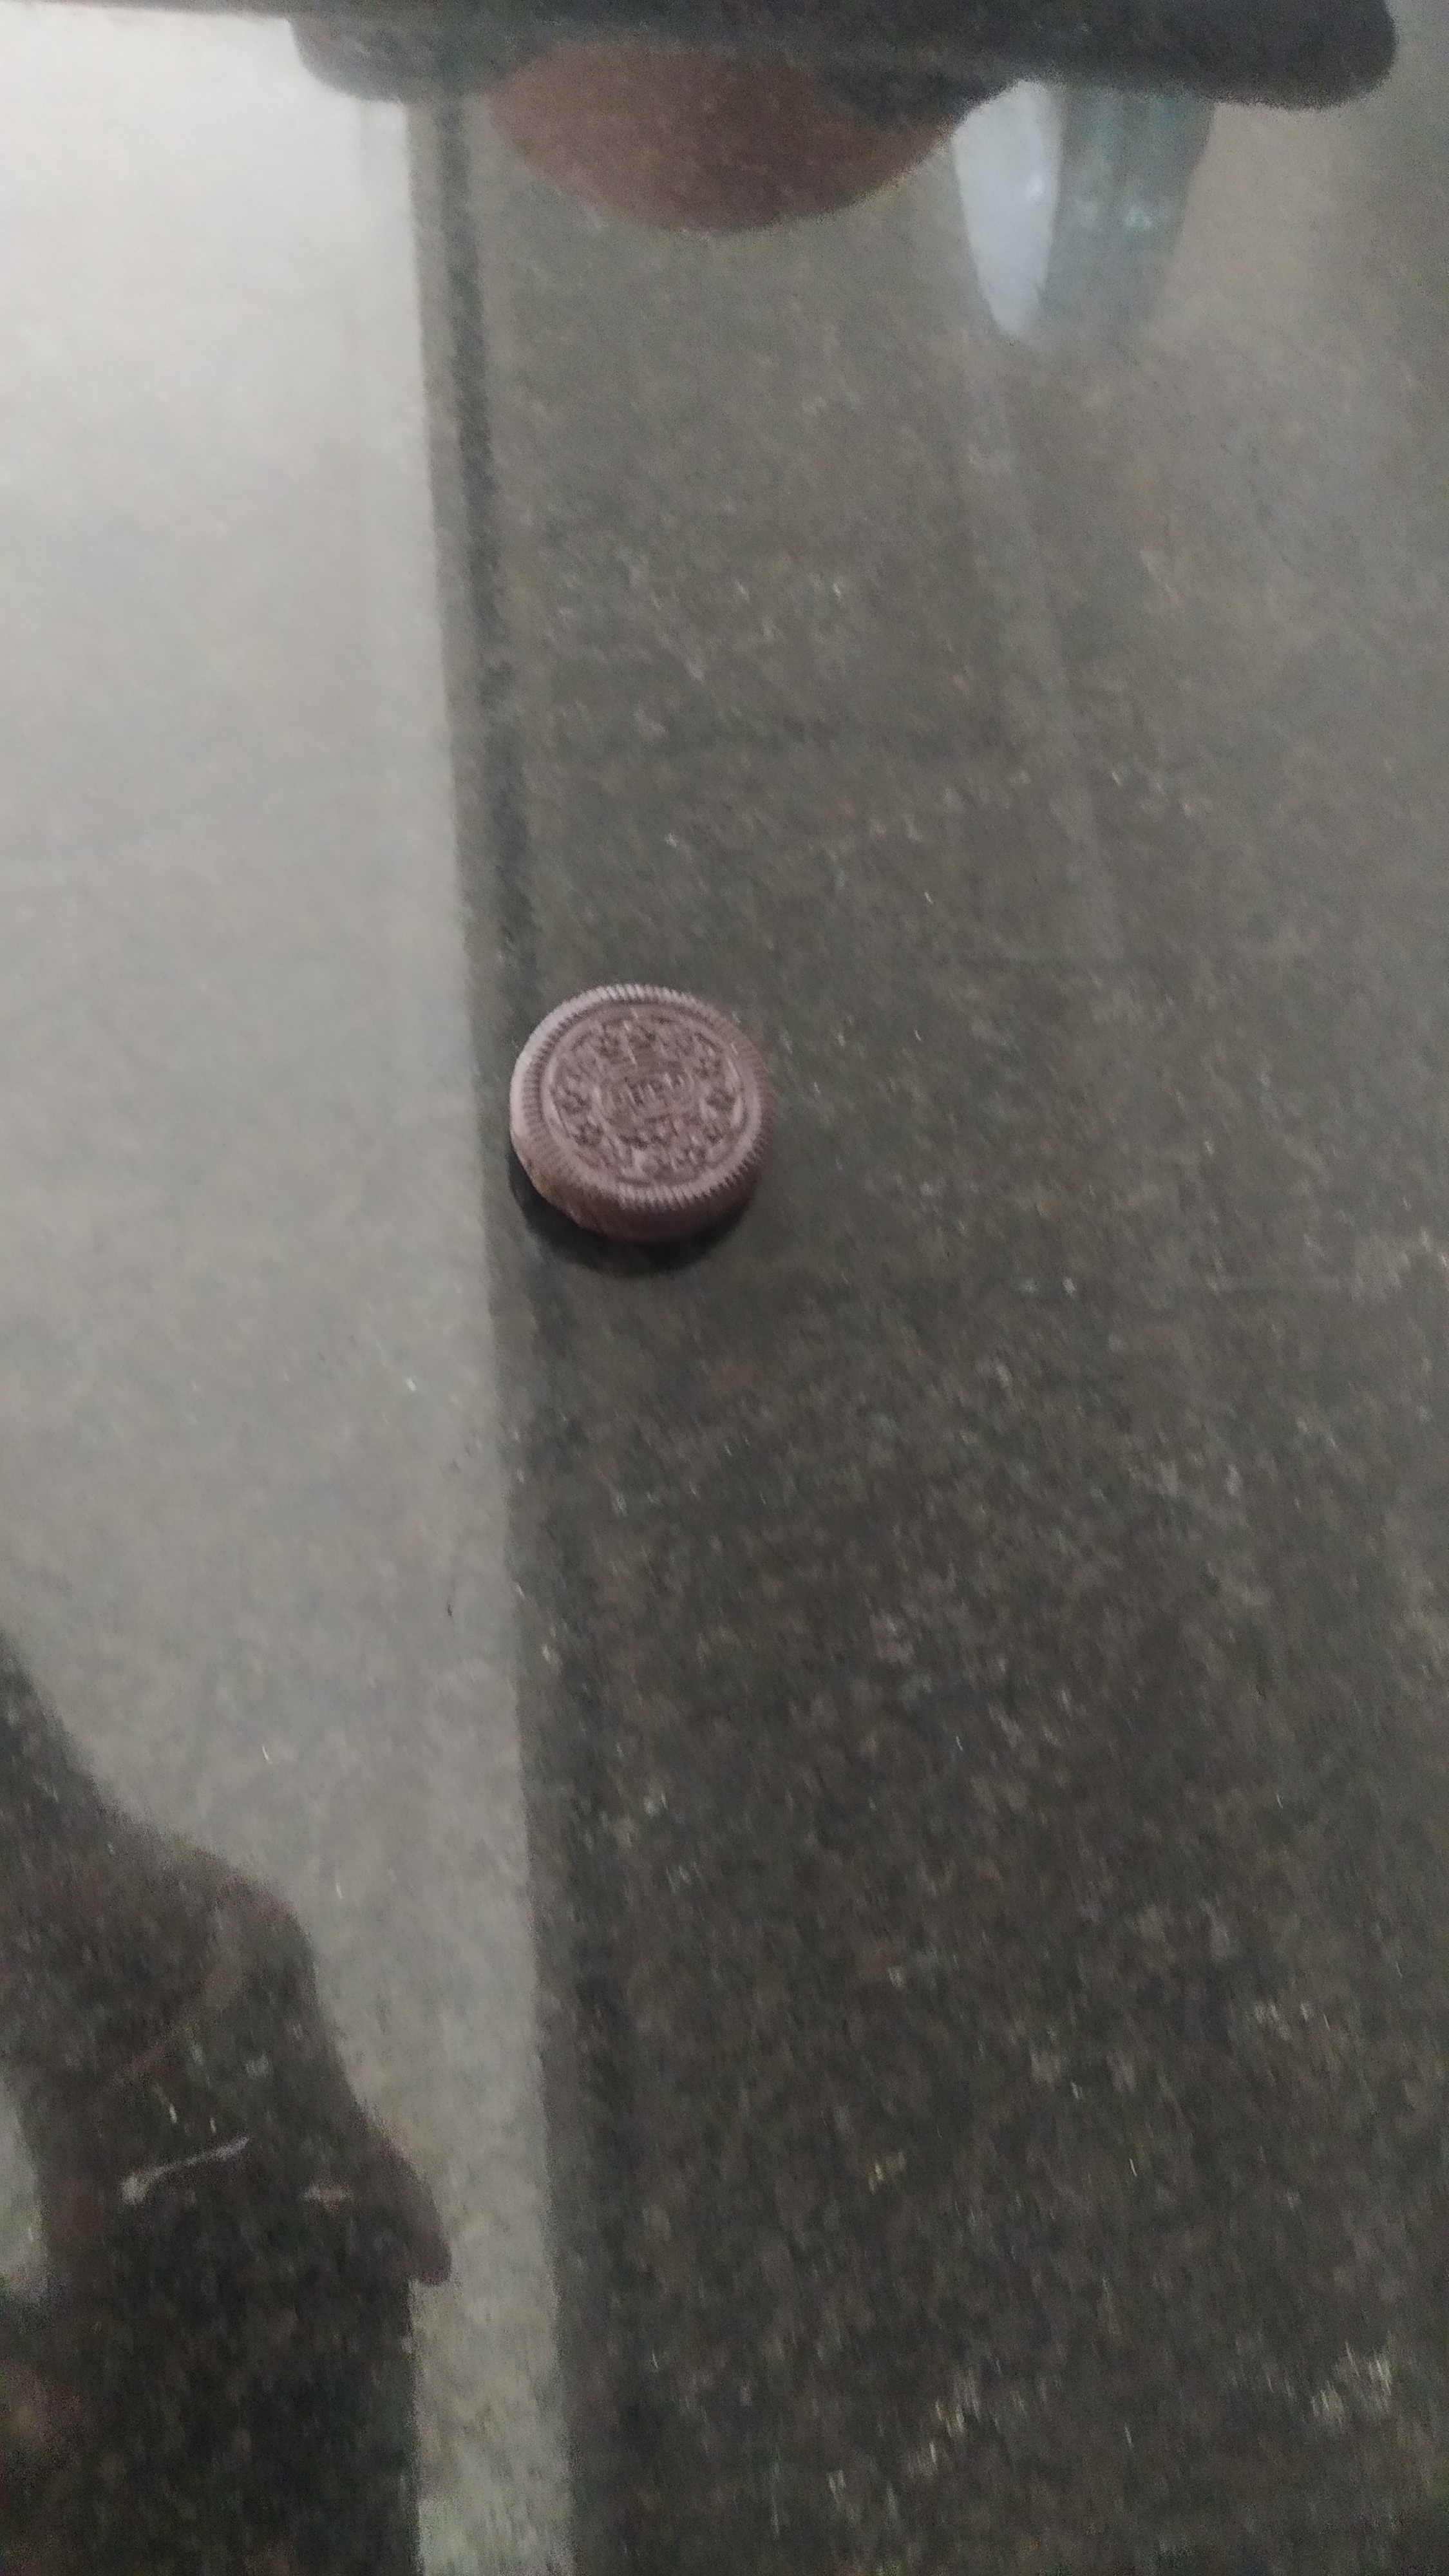oreo: (510, 984, 775, 1244)
